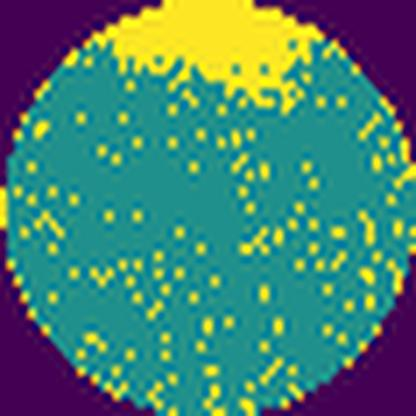Edge-Loc: (80, 0, 323, 114)
